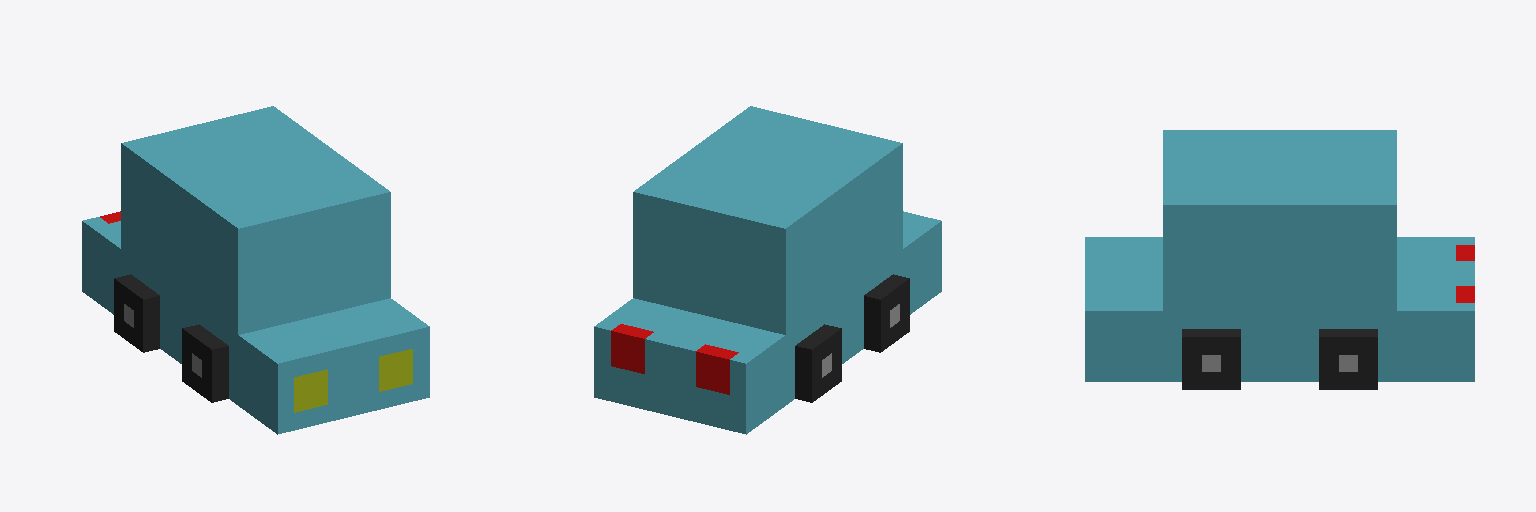
The picture shows the model from 3 angles: view 1: azimuth 30°, elevation 25°; view 2: azimuth 150°, elevation 25°; view 3: azimuth 270°, elevation 25°; orthographic projection.
Parts seen in each view (by area): view 1: object 1; view 2: object 1; view 3: object 1.
Boxes of the visible parts, <box> form: object 1: <box>82,106,429,434</box>; object 1: <box>594,106,941,434</box>; object 1: <box>1085,130,1474,389</box>.
Size of the model in its own units: 1.1 by 1 by 2.
1 materials, 1 textured.